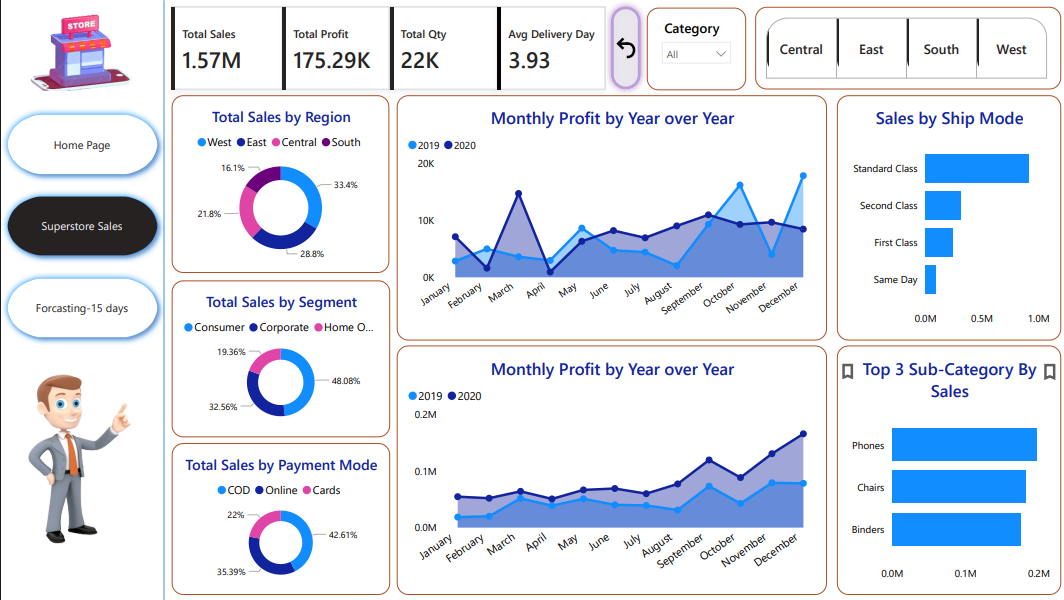

The page's visual inventory and layout, read from the dashboard file:
{"tool":"powerbi","page":{"name":"Superstore Sales","canvas":[1280,720],"ordinal":1},"visuals":[{"type":"shape","box":[0,0,286,775.2],"z":0},{"type":"pageNavigator","box":[0,129,197,284.8],"z":1000},{"type":"image","box":[9.9,429.9,161.2,240],"z":2000},{"type":"shape","box":[171.2,0,51.6,719.8],"z":3000},{"type":"areaChart","title":"Monthly Profit by Year over Year","fields":{"Category":["Superstore data.Order Date.Variation.Date Hierarchy.Month"],"Y":["All Measure.Total Profit"],"Series":["Superstore data.Order Date.Variation.Date Hierarchy.Year"]},"box":[475.5,113.7,515.8,293.7],"z":4000},{"type":"cardVisual","fields":{"Data":["All Measure.Total Sales"]},"box":[206.2,7.8,133.3,99.2],"z":5000},{"type":"cardVisual","fields":{"Data":["All Measure.Total Profit"]},"box":[339.5,7.8,128.4,99.2],"z":6000},{"type":"cardVisual","fields":{"Data":["All Measure.Total Qty"]},"box":[467.8,7.8,129.4,99.2],"z":7000},{"type":"cardVisual","fields":{"Data":["All Measure.Avg Delivery Day"]},"box":[597.2,7.8,129.4,99.2],"z":8000},{"type":"donutChart","fields":{"Y":["All Measure.Total Sales"],"Category":["Superstore data.Region"]},"box":[206,113.7,261.5,213.1],"z":9000},{"type":"donutChart","fields":{"Y":["All Measure.Total Sales"],"Category":["Superstore data.Payment Mode"]},"box":[206.2,531.1,261.6,181.9],"z":10000},{"type":"donutChart","fields":{"Y":["All Measure.Total Sales"],"Category":["Superstore data.Segment"]},"box":[206.2,335.6,261.6,187.7],"z":11000},{"type":"areaChart","title":"Monthly Profit by Year over Year","fields":{"Category":["Superstore data.Order Date.Variation.Date Hierarchy.Month"],"Series":["Superstore data.Order Date.Variation.Date Hierarchy.Year"],"Y":["All Measure.Total Sales"]},"box":[475.5,413.7,515.8,299.1],"z":12000},{"type":"clusteredBarChart","title":"Sales by Ship Mode","fields":{"Y":["All Measure.Total Sales"],"Category":["Superstore data.Ship Mode"]},"box":[1003.9,113.7,268.7,293.7],"z":13000},{"type":"advancedSlicerVisual","fields":{"Values":["Superstore data.Region"]},"box":[905.5,7.8,366.7,99.2],"z":14000},{"type":"image","box":[27.8,6.3,140.6,107.5],"z":15000},{"type":"clusteredBarChart","title":"Top 3 Sub-Category By Sales","fields":{"Category":["Superstore data.Sub-Category"],"Y":["All Measure.Total Sales"]},"box":[1004,414,269,299],"z":16000},{"type":"actionButton","box":[726.3,0,50.1,113.7],"z":17000},{"type":"slicer","fields":{"Values":["Superstore data.Category"]},"box":[776.4,9,119.1,98.5],"z":18000},{"type":"actionButton","box":[1003.9,429,26,31.3],"z":20000},{"type":"actionButton","box":[1245.7,429.9,26.9,31.3],"z":21000}]}

Visuals, with their boxes in screenshot pixels (x1, y1, x2, y2), scaled from the page's 1280x720 canvas onto the 1064x600 screenshot:
shape: x1=0, y1=0, x2=238, y2=599
pageNavigator: x1=0, y1=108, x2=164, y2=345
image: x1=8, y1=358, x2=142, y2=558
shape: x1=142, y1=0, x2=185, y2=599
"Monthly Profit by Year over Year" areaChart: x1=395, y1=95, x2=824, y2=340
cardVisual - All Measure.Total Sales: x1=171, y1=6, x2=282, y2=89
cardVisual - All Measure.Total Profit: x1=282, y1=6, x2=389, y2=89
cardVisual - All Measure.Total Qty: x1=389, y1=6, x2=496, y2=89
cardVisual - All Measure.Avg Delivery Day: x1=496, y1=6, x2=604, y2=89
donutChart - All Measure.Total Sales x Superstore data.Region: x1=171, y1=95, x2=389, y2=272
donutChart - All Measure.Total Sales x Superstore data.Payment Mode: x1=171, y1=443, x2=389, y2=594
donutChart - All Measure.Total Sales x Superstore data.Segment: x1=171, y1=280, x2=389, y2=436
"Monthly Profit by Year over Year" areaChart: x1=395, y1=345, x2=824, y2=594
"Sales by Ship Mode" clusteredBarChart: x1=834, y1=95, x2=1058, y2=340
advancedSlicerVisual - Superstore data.Region: x1=753, y1=6, x2=1058, y2=89
image: x1=23, y1=5, x2=140, y2=95
"Top 3 Sub-Category By Sales" clusteredBarChart: x1=835, y1=345, x2=1058, y2=594
actionButton: x1=604, y1=0, x2=645, y2=95
slicer - Superstore data.Category: x1=645, y1=8, x2=744, y2=90
actionButton: x1=834, y1=358, x2=856, y2=384
actionButton: x1=1035, y1=358, x2=1058, y2=384
